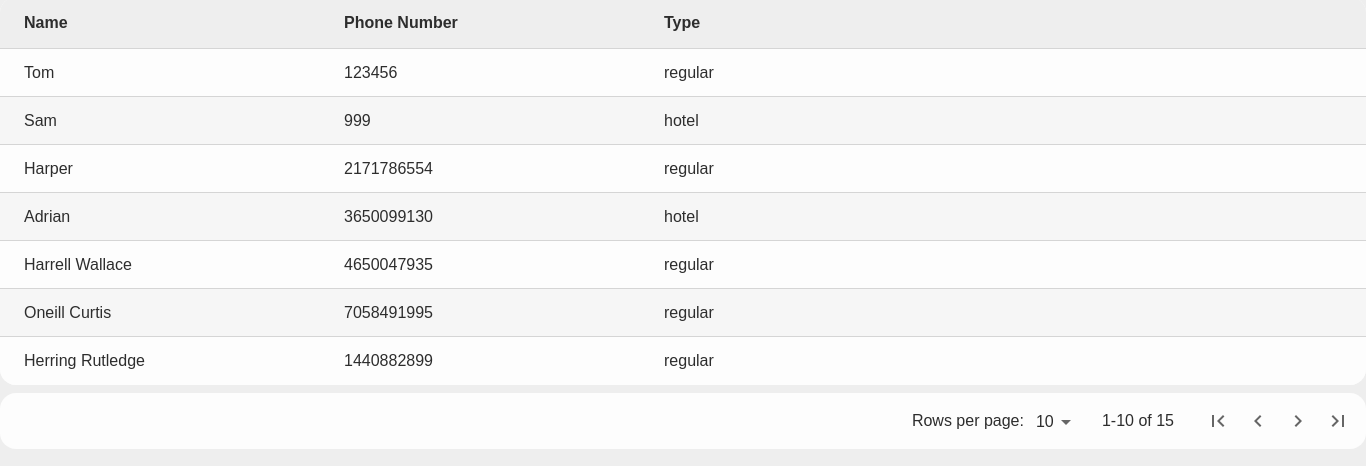
Test: Generic Table component › Table with pagination › should move to next page to view next set of rows
Click the button named "Next Page" at {"x": 1298, "y": 421}, box [1278, 401, 1318, 441]
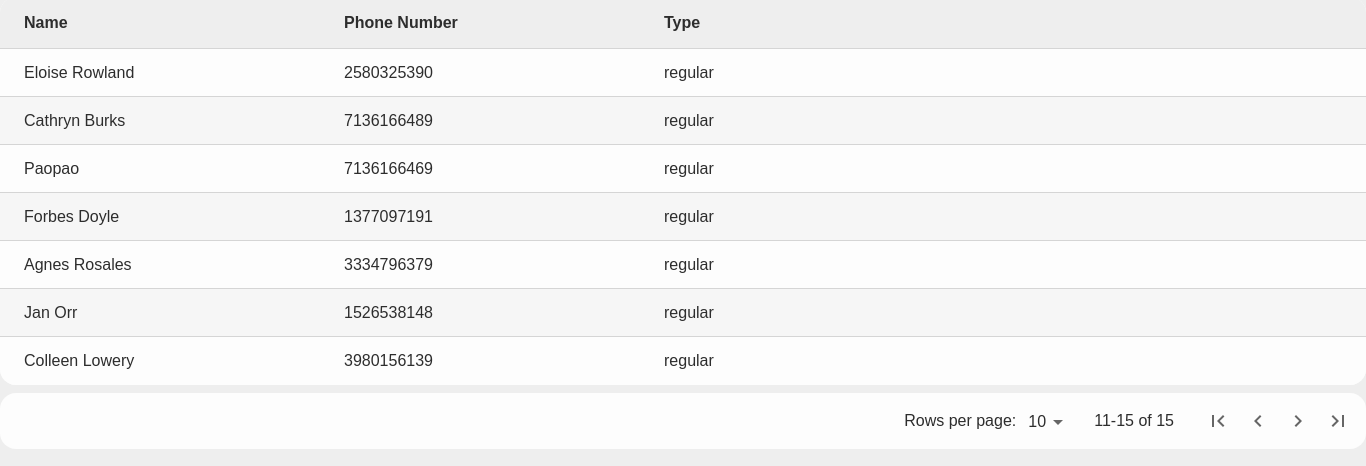
Expected: the text "Eloise Rowland" is shown, [24, 64, 134, 80]
Expected: the text "Cathryn Burks" is shown, [24, 112, 125, 128]
Expected: the text "Paopao" is shown, [24, 160, 79, 176]
